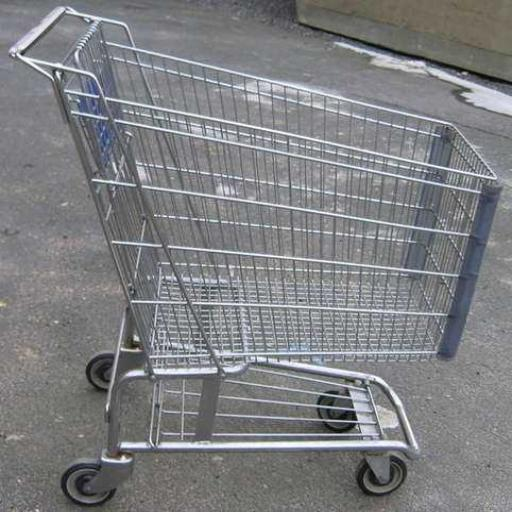shopping_cart: (8, 2, 504, 504)
